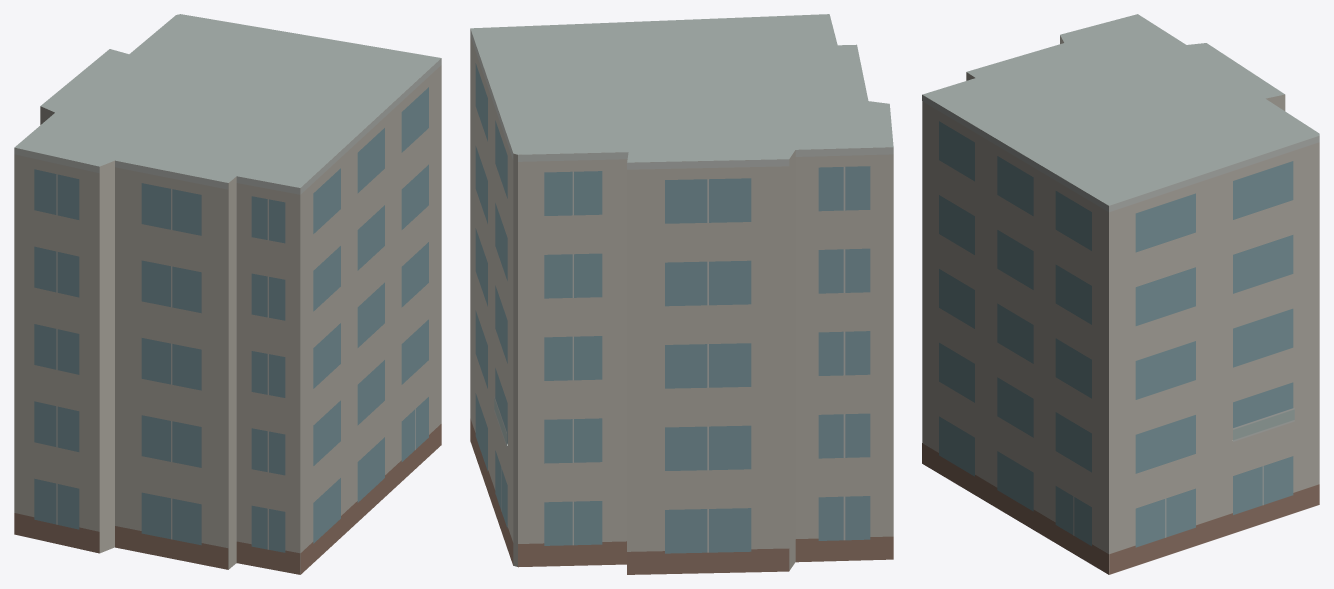
File: survey-upis-32677894.glb
The picture shows the model from 3 angles, left to right: view 1: azimuth 30°, elevation 25°; view 2: azimuth 150°, elevation 25°; view 3: azimuth 270°, elevation 25°; orthographic projection. The views are drawn at different scales.
Visible parts, largest first — view 1: survey-upis-32677894.tmp; view 2: survey-upis-32677894.tmp; view 3: survey-upis-32677894.tmp.
Part boxes in pixels (<box>): survey-upis-32677894.tmp: <box>14,14,441,574</box>; survey-upis-32677894.tmp: <box>470,14,893,574</box>; survey-upis-32677894.tmp: <box>922,14,1319,574</box>.
Size of the model in its own units: 15.73 by 14.1 by 13.78.
